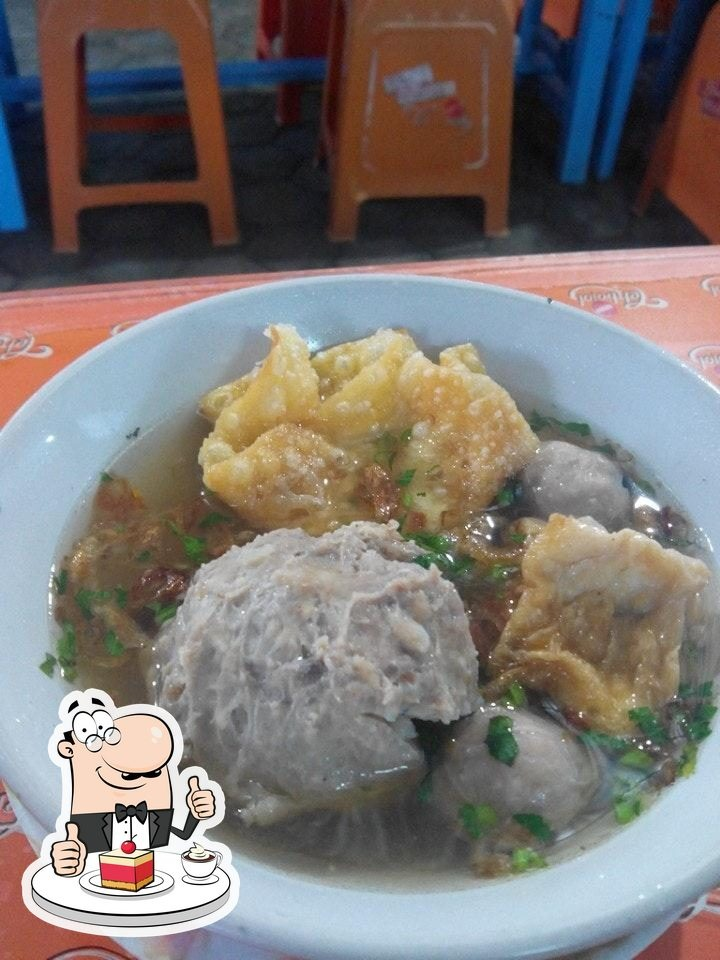bakso_malang: (54, 328, 719, 889)
